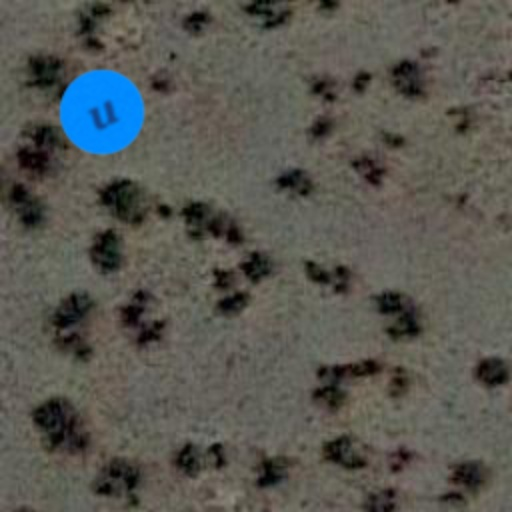circle: (44, 54, 160, 170)
